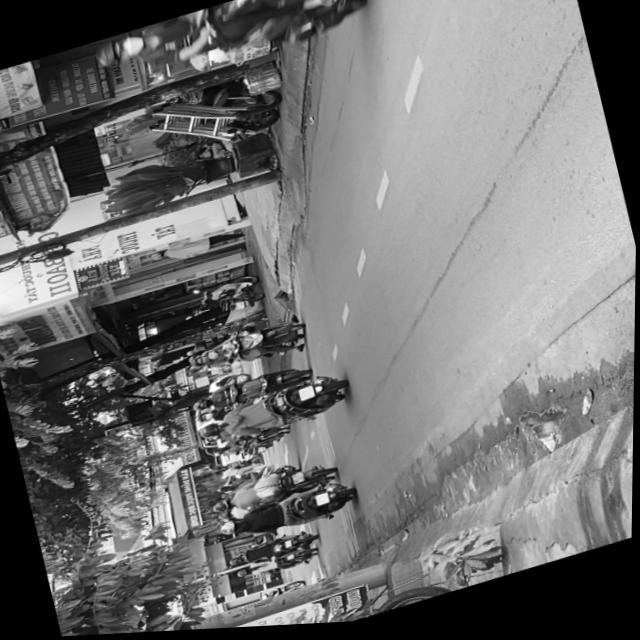helmet: (91, 30, 149, 73), (196, 421, 225, 442)
licenseplate: (88, 0, 395, 105), (192, 372, 352, 454)
nohelmet: (297, 389, 314, 404)
